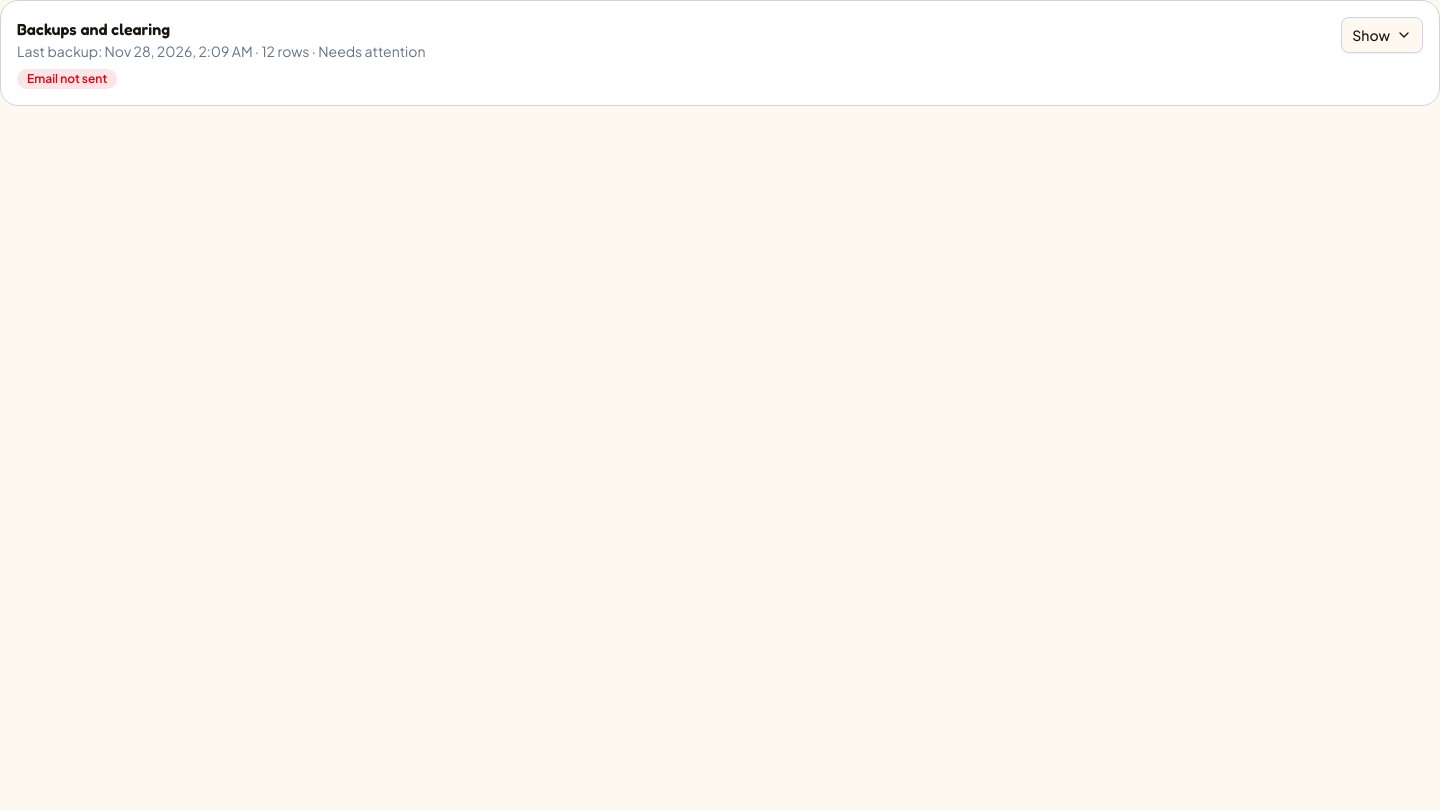
Test: Activity Log backup panel › expands history rows and keeps email retry plus the raw support code reachable
Expected: the text "Email not sent" is shown, top-left (17, 69), bottom-right (117, 89)
Click the button with aria-label "Show backups and clearing".
click(1382, 35)  # box top-left (1341, 17), bottom-right (1423, 53)
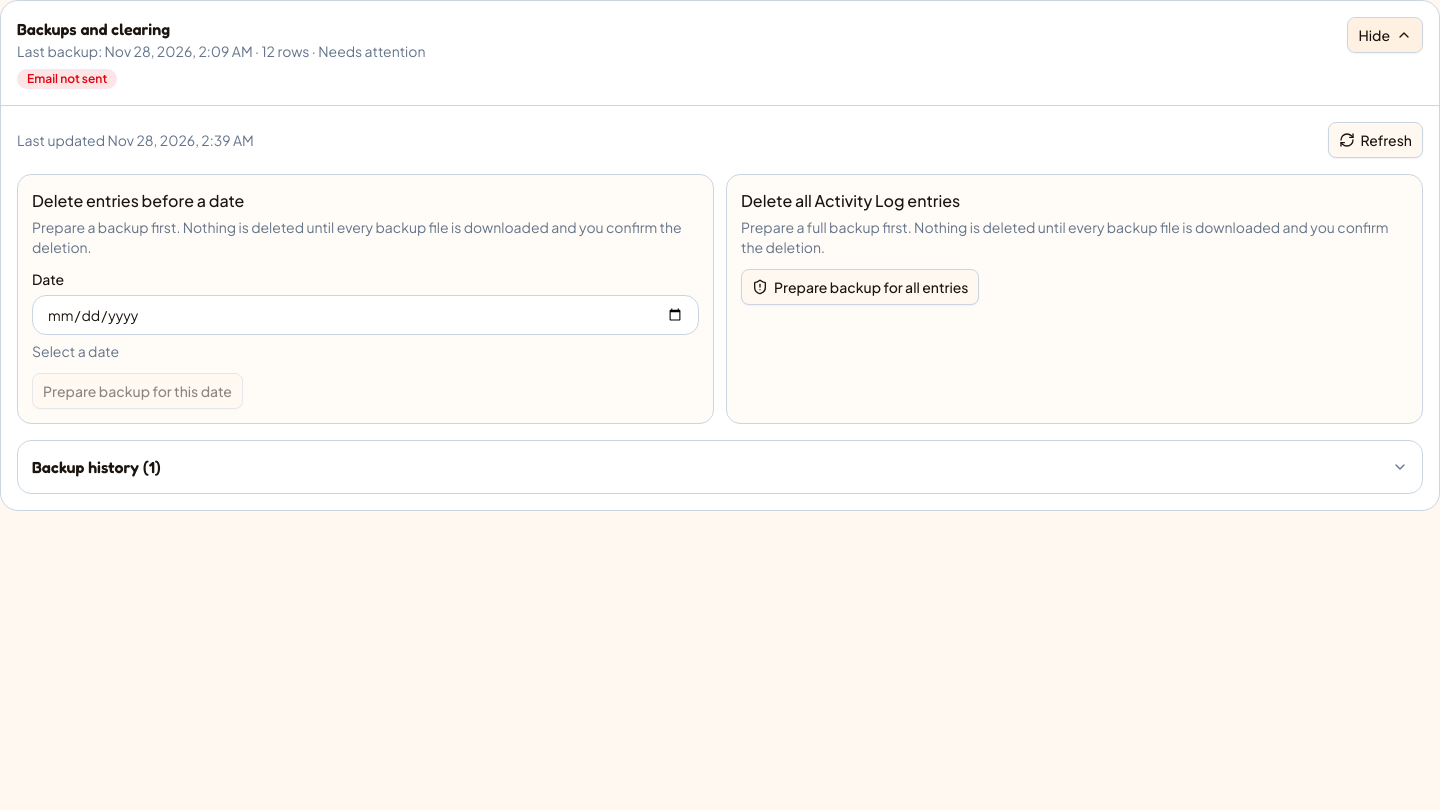
Click the button "Backup history (1)".
click(90, 467)  # box top-left (18, 441), bottom-right (1422, 493)
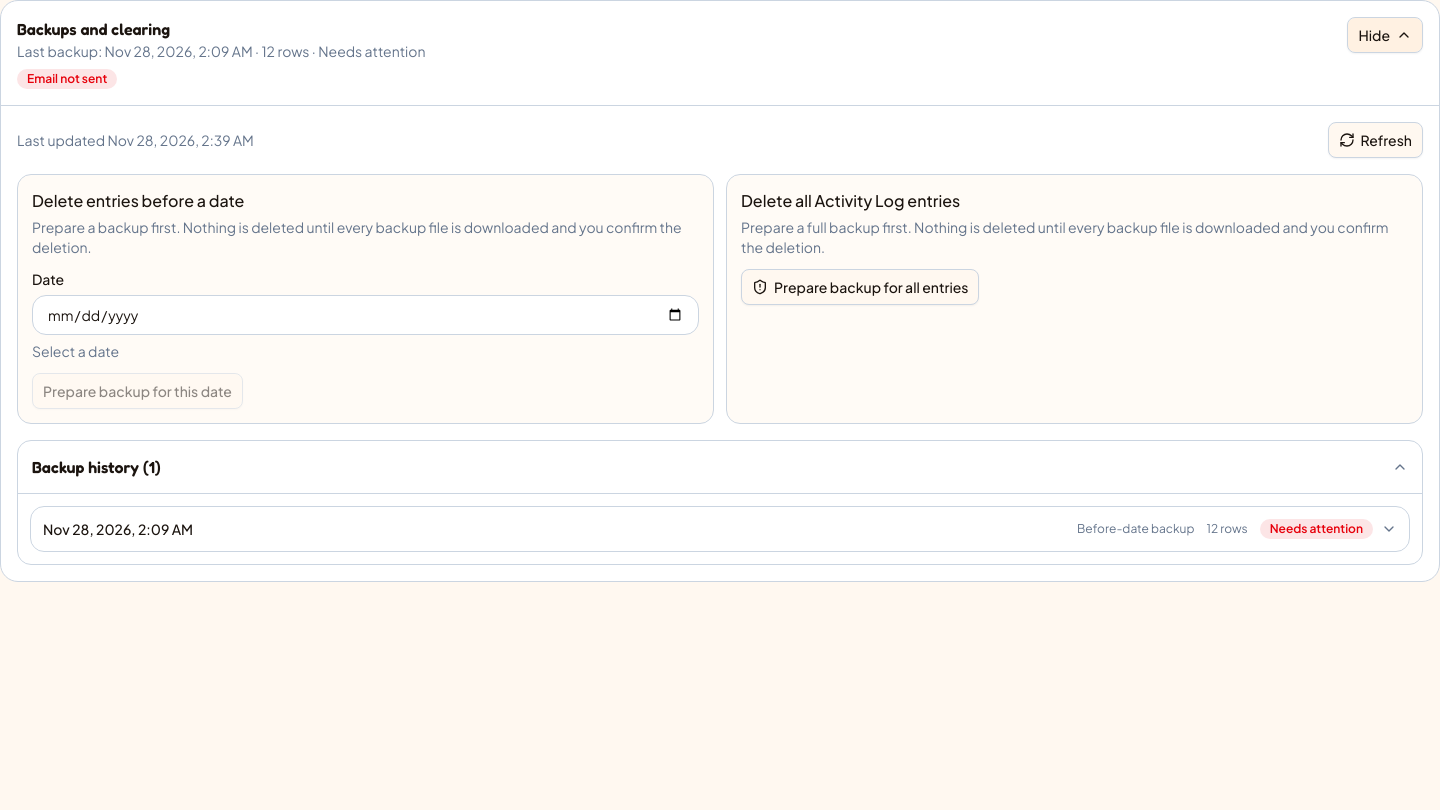
Click the button with aria-label "Expand Before-date backup".
click(118, 529)  # box top-left (31, 507), bottom-right (1409, 551)
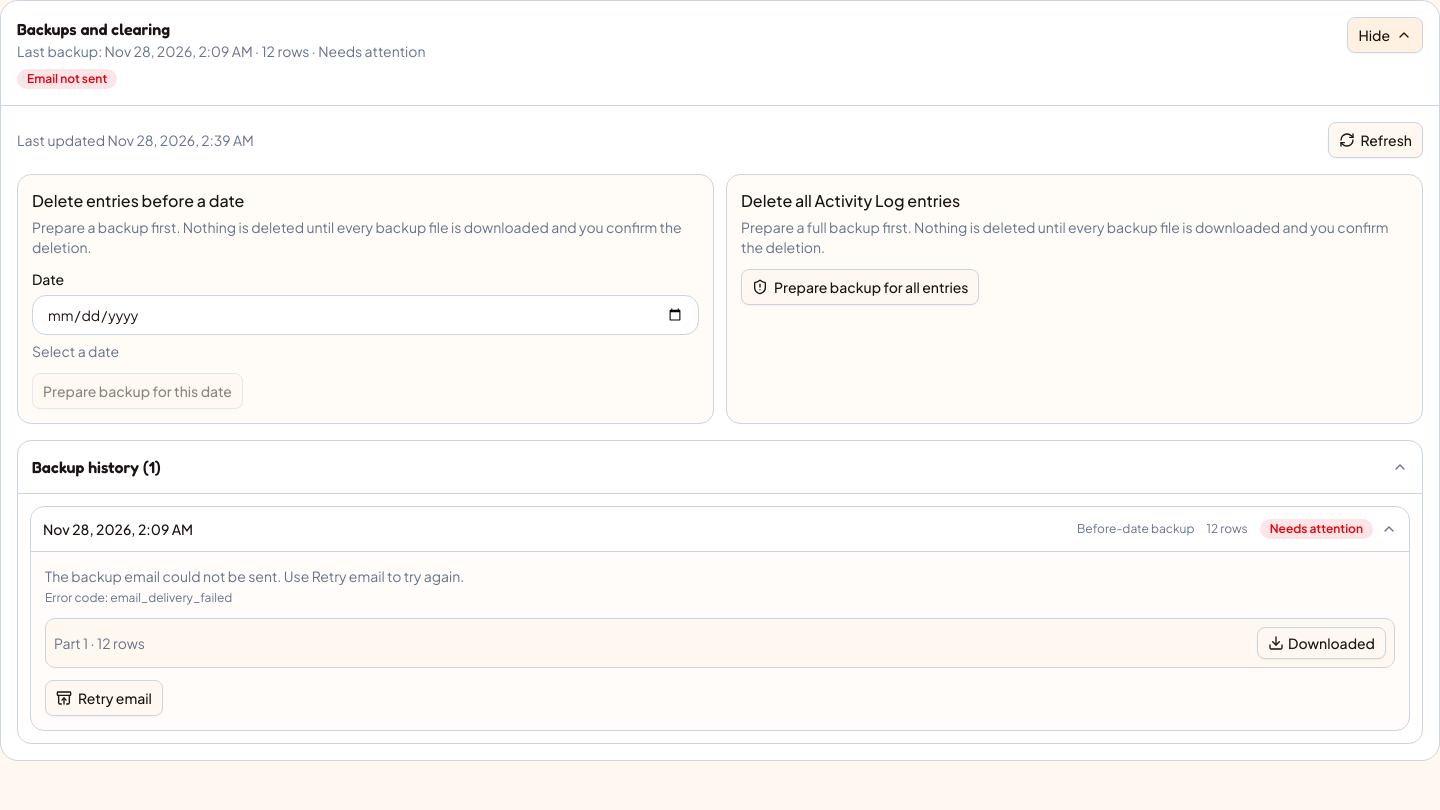
Expected: the button named "Expand Before-date backup" is expanded, top-left (31, 507), bottom-right (1409, 551)
Expected: the text "The backup email could not be sent. Use Retry email to try again." is shown, top-left (45, 567), bottom-right (464, 585)
Expected: the text "Error code: email_delivery_failed" is shown, top-left (45, 590), bottom-right (232, 605)
